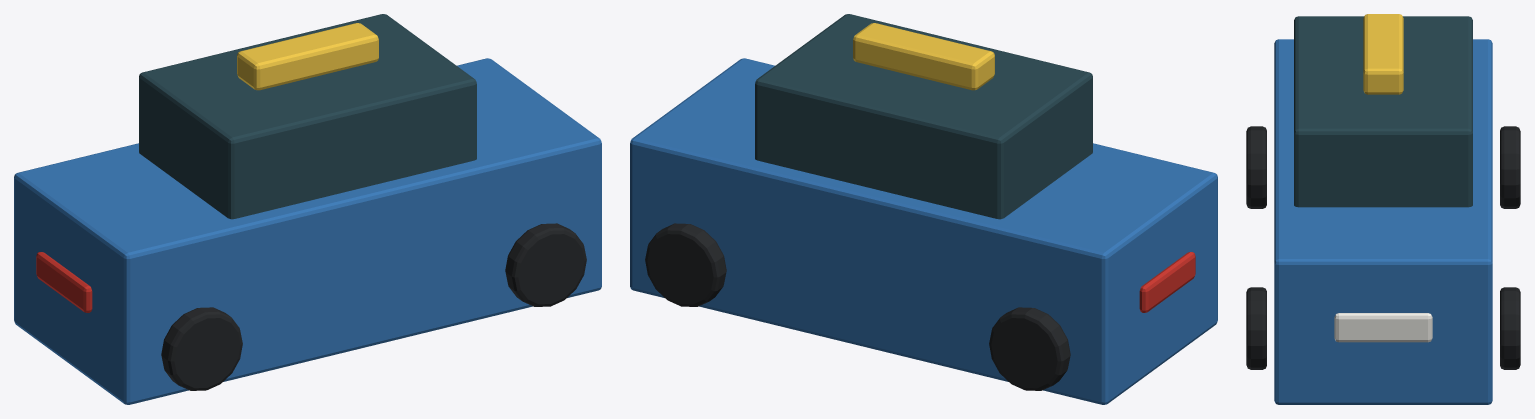
Rendered from Vehicle_021.glb.
3 renders of one model, left to right at view 1: azimuth 30°, elevation 25°; view 2: azimuth 150°, elevation 25°; view 3: azimuth 270°, elevation 25°, orthographic. The views are drawn at different scales.
Parts seen in each view (by area): view 1: Vehicle_021; view 2: Vehicle_021; view 3: Vehicle_021.
Part boxes in pixels (x1=…): Vehicle_021: x1=14, y1=14, x2=601, y2=404; Vehicle_021: x1=630, y1=14, x2=1217, y2=404; Vehicle_021: x1=1246, y1=14, x2=1520, y2=404.
Size of the model in its own units: 4.77 by 2.44 by 2.38.
